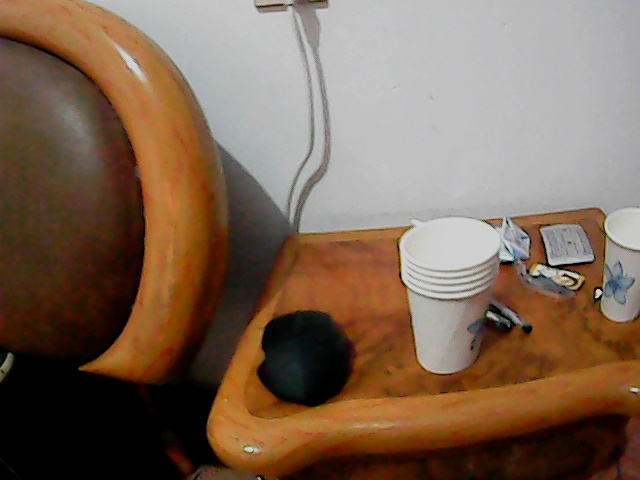cup: (401, 215, 501, 378)
mouse: (253, 306, 362, 409)
